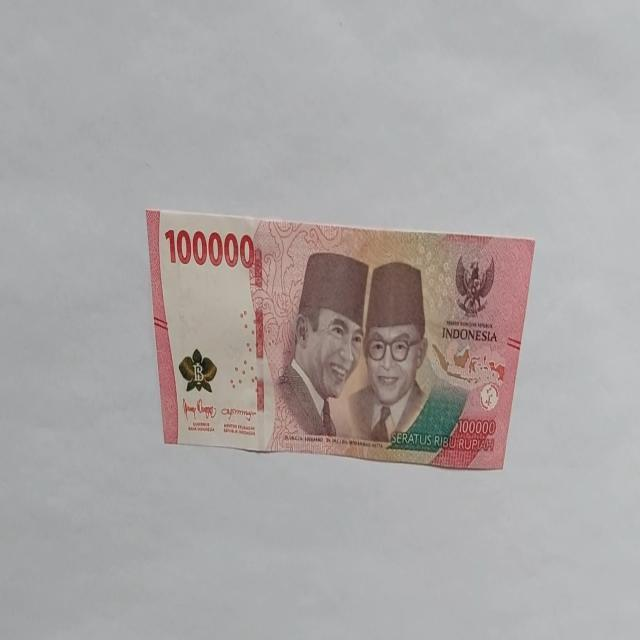seratus ribu rupiah: (144, 207, 536, 471), (266, 250, 370, 450)
